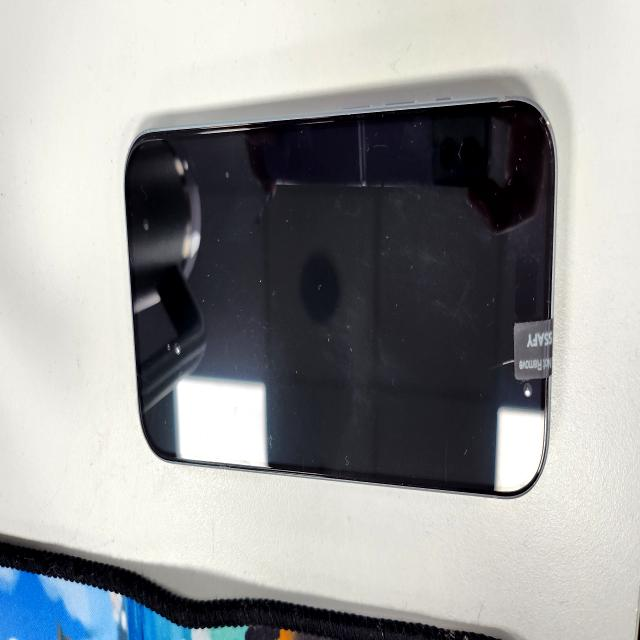phone: (124, 96, 559, 500)
sticker: (513, 321, 553, 378)
